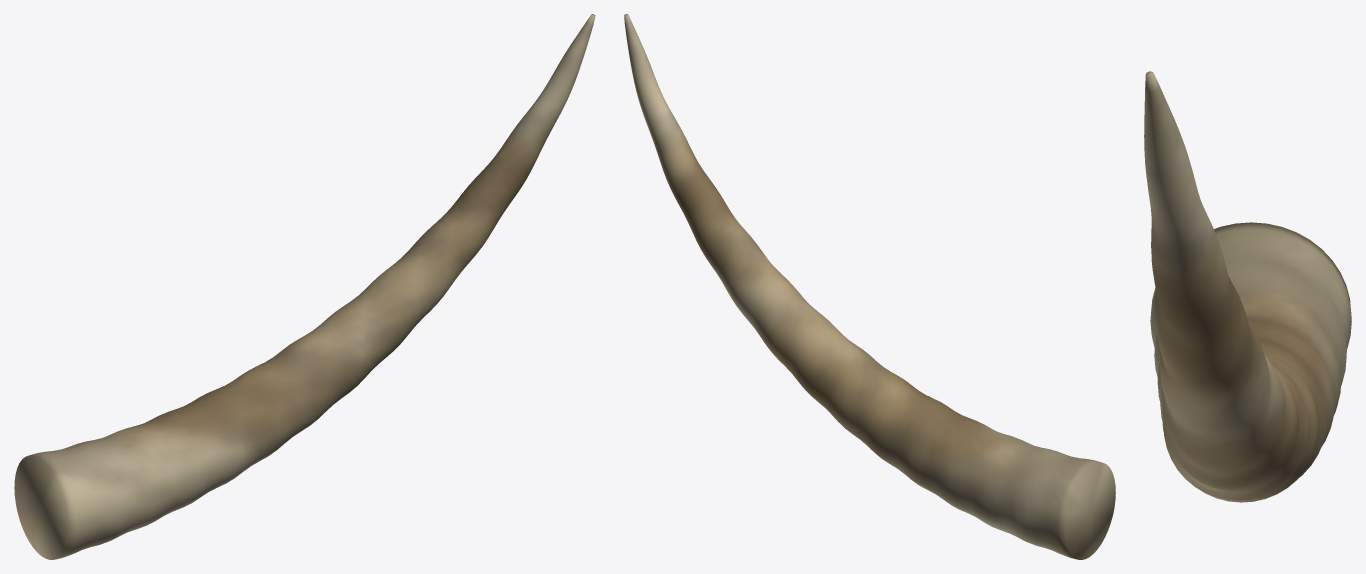
Rendered from xiangya.glb.
3 views of the same model, side by side, from view 1: azimuth 30°, elevation 25°; view 2: azimuth 150°, elevation 25°; view 3: azimuth 270°, elevation 25° (orthographic). The views are drawn at different scales.
Visible parts, largest first — view 1: model; view 2: model; view 3: model.
Part boxes in pixels (x1,y1,x2,y2): model: (14,14,595,559); model: (624,14,1115,559); model: (1144,71,1351,502).
Bounding box in the file's own units: 1 × 0.7865 × 0.1828.
